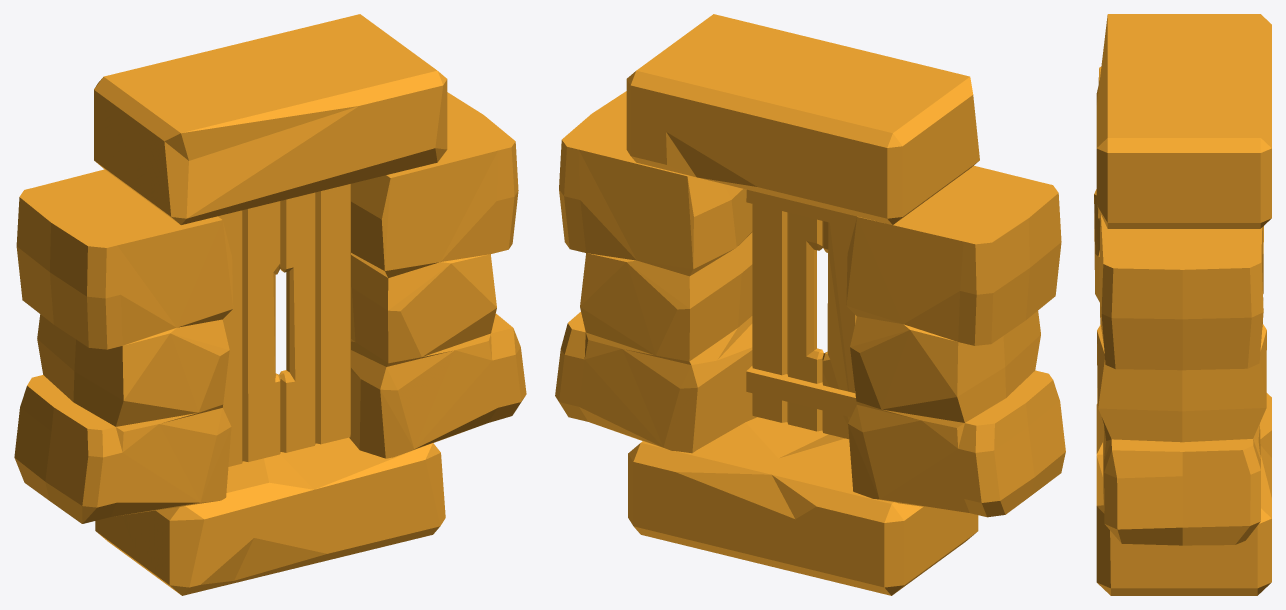
The model's file is SM_Window_Stone_Small_C_Fantasy.fbx.
The picture shows the model from 3 angles, left to right: view 1: azimuth 30°, elevation 25°; view 2: azimuth 150°, elevation 25°; view 3: azimuth 270°, elevation 25°; orthographic projection.
Visible parts, largest first — view 1: SM_Window_Stone_Small_C_Fantasy_Frame, SM_Window_Stone_Small_C_Fantasy_Shutter; view 2: SM_Window_Stone_Small_C_Fantasy_Frame, SM_Window_Stone_Small_C_Fantasy_Shutter; view 3: SM_Window_Stone_Small_C_Fantasy_Frame.
Boxes of the visible parts, x1,y1,x2,y2 form: SM_Window_Stone_Small_C_Fantasy_Frame: (14,14,526,595); SM_Window_Stone_Small_C_Fantasy_Shutter: (218,184,350,466); SM_Window_Stone_Small_C_Fantasy_Frame: (555,14,1065,595); SM_Window_Stone_Small_C_Fantasy_Shutter: (746,189,856,439); SM_Window_Stone_Small_C_Fantasy_Frame: (1094,14,1271,595).
Bounding box in the file's own units: 1.75 × 1.73 × 0.6053.
